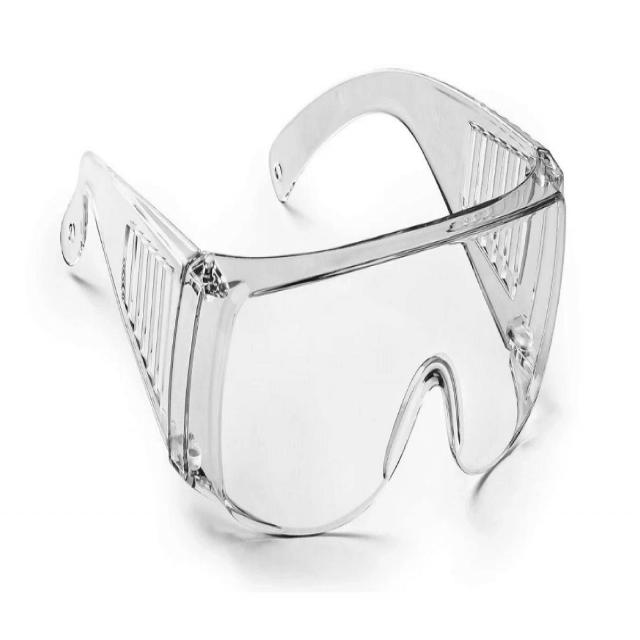Protective Glasses: (41, 43, 577, 576)
